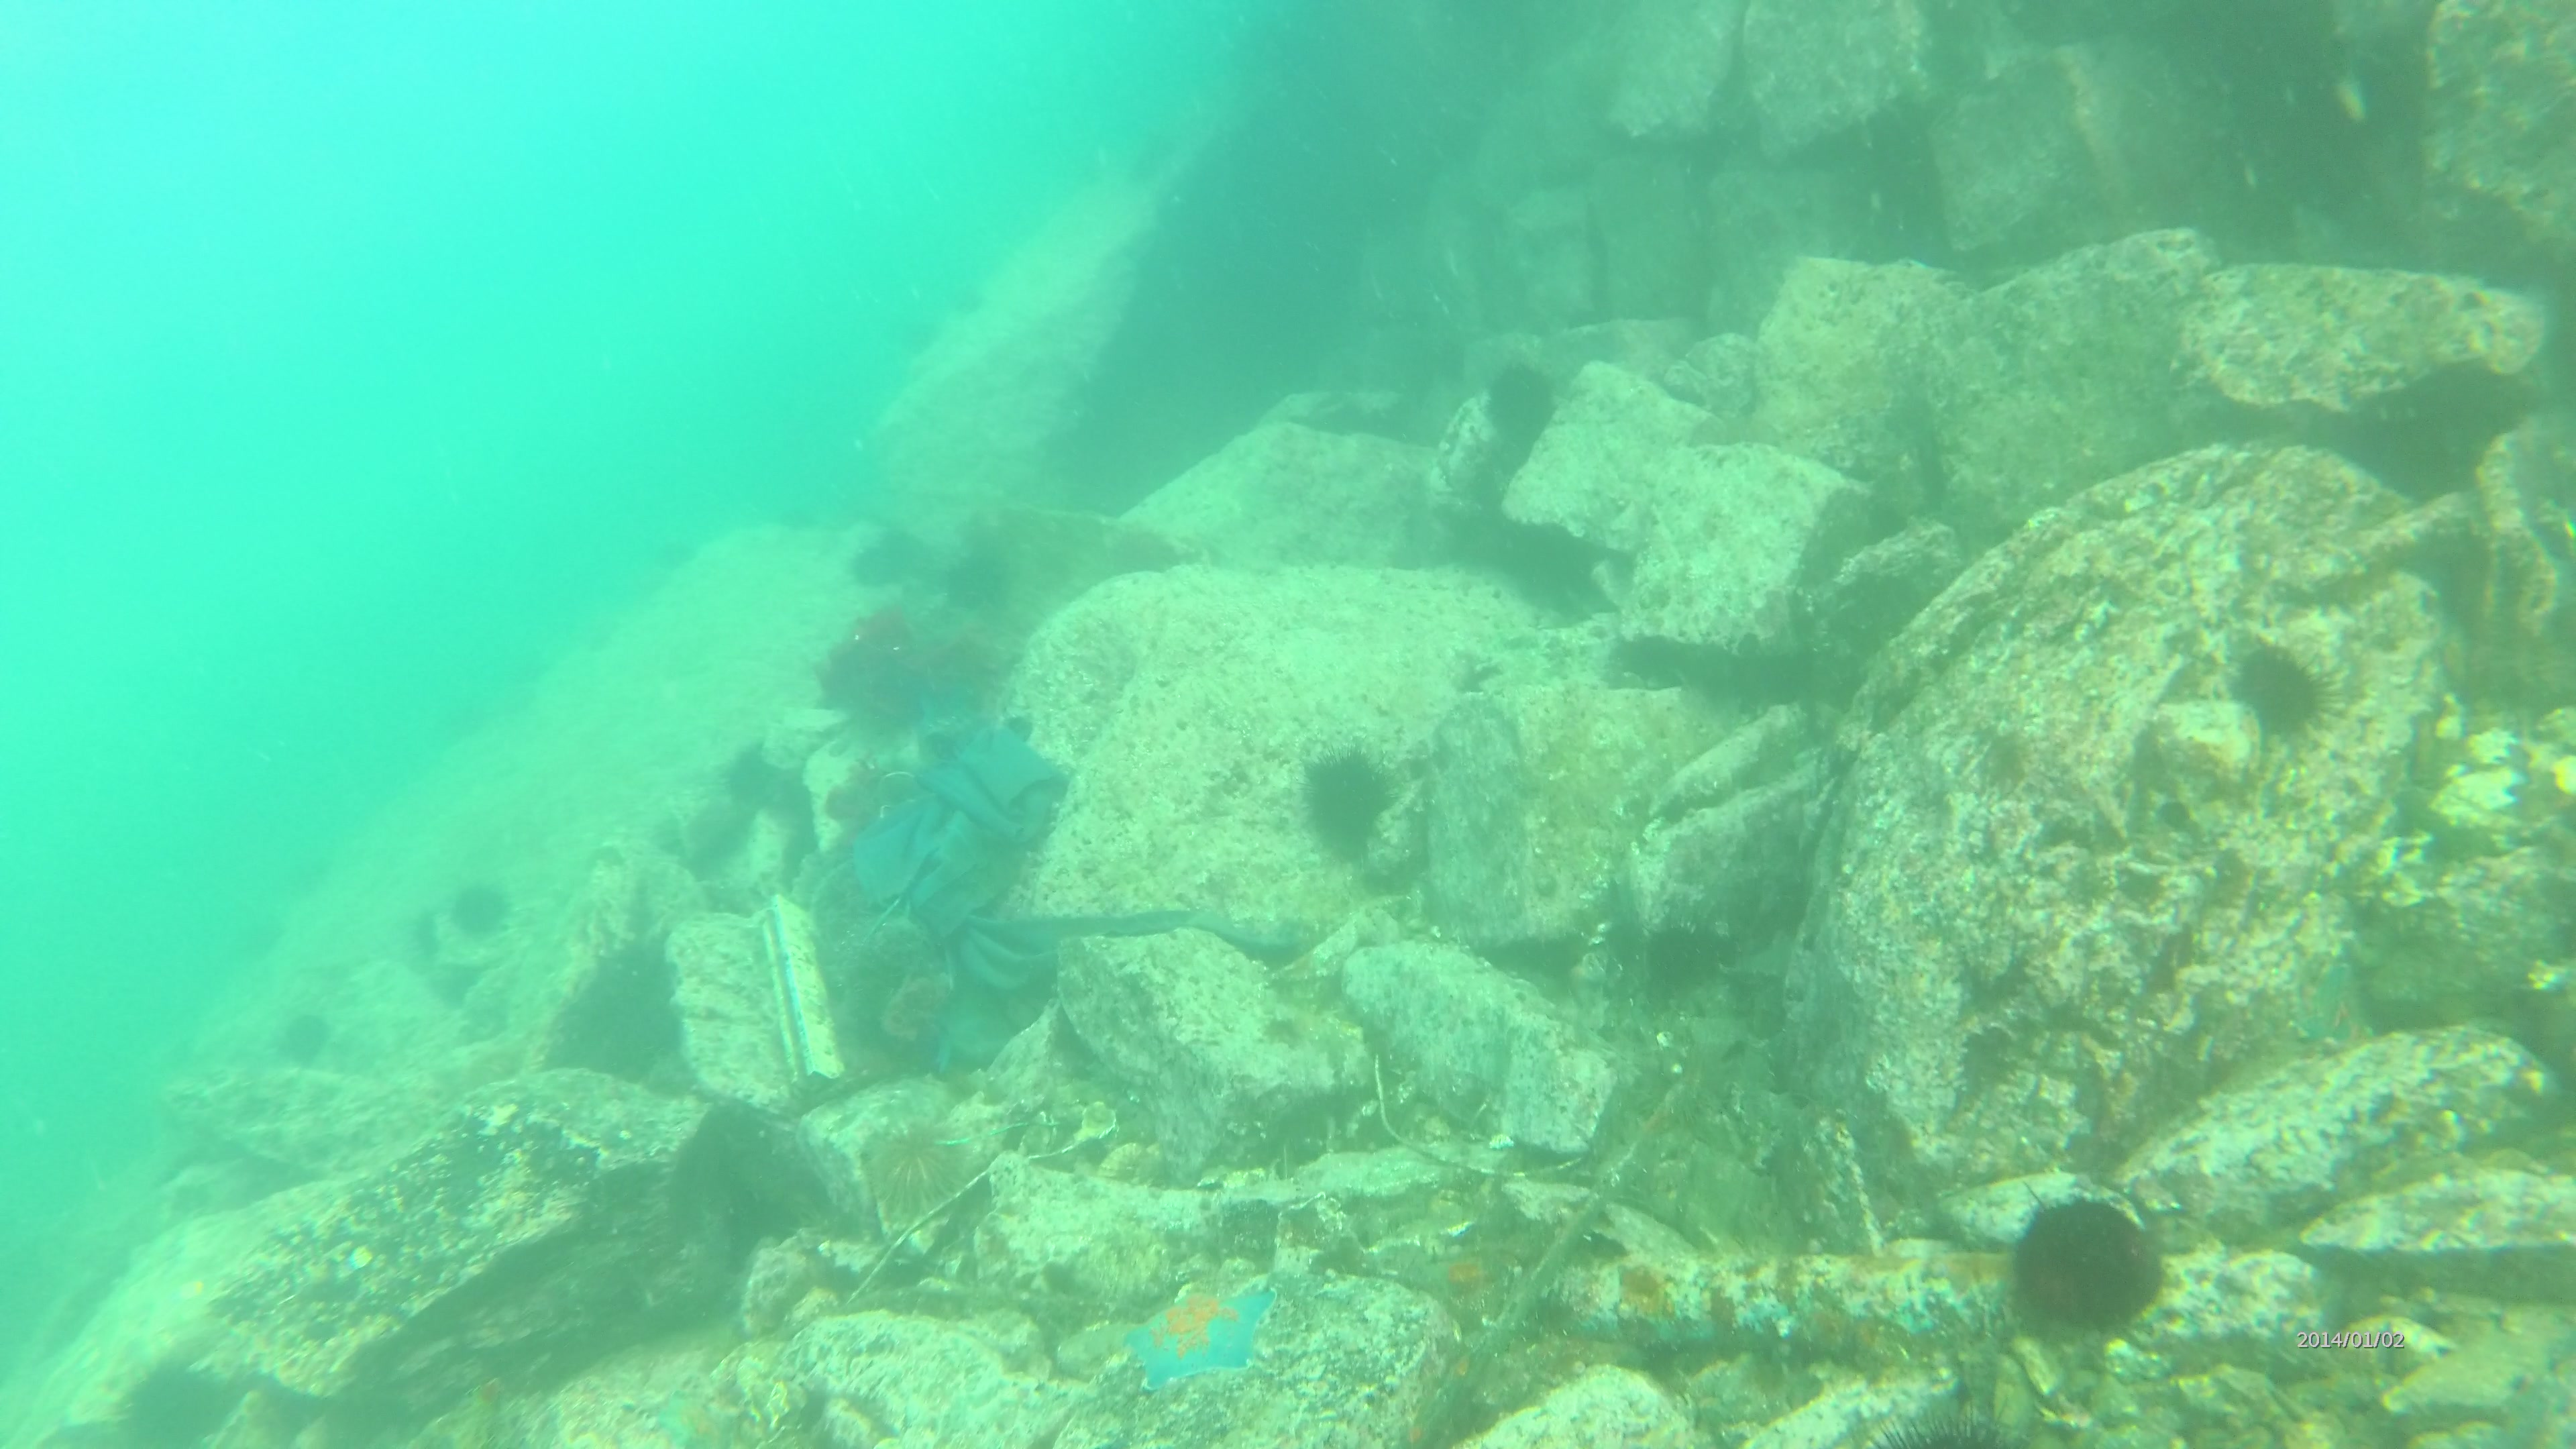echinus: (2012, 1200, 2166, 1338), (2224, 630, 2327, 743), (862, 1113, 962, 1208), (1306, 743, 1401, 844), (1479, 356, 1550, 432), (446, 883, 513, 945), (288, 1010, 336, 1069)
starfish: (1120, 1276, 1277, 1396)
